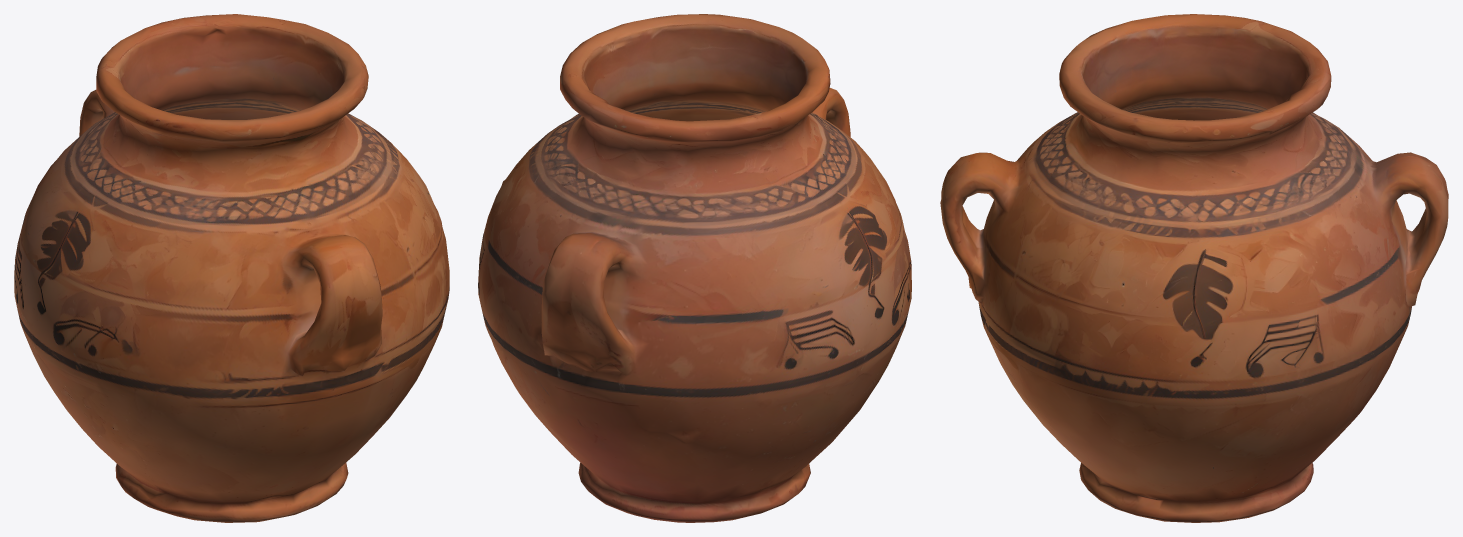
Rendered from jar-model.glb.
3 views of the same model, side by side, from view 1: azimuth 30°, elevation 25°; view 2: azimuth 150°, elevation 25°; view 3: azimuth 270°, elevation 25° (orthographic).
Parts seen in each view (by area): view 1: tripo_node_b3cae165-170c-4d79-b3d2-581284969198; view 2: tripo_node_b3cae165-170c-4d79-b3d2-581284969198; view 3: tripo_node_b3cae165-170c-4d79-b3d2-581284969198.
Boxes of the visible parts, left/top/right/bottom form: tripo_node_b3cae165-170c-4d79-b3d2-581284969198: left=14, top=14, right=449, bottom=522; tripo_node_b3cae165-170c-4d79-b3d2-581284969198: left=478, top=14, right=911, bottom=522; tripo_node_b3cae165-170c-4d79-b3d2-581284969198: left=940, top=14, right=1448, bottom=522.
Bounding box in the file's own units: 0.8587 × 0.898 × 1.
Materials: 1 (1 with a texture image).
